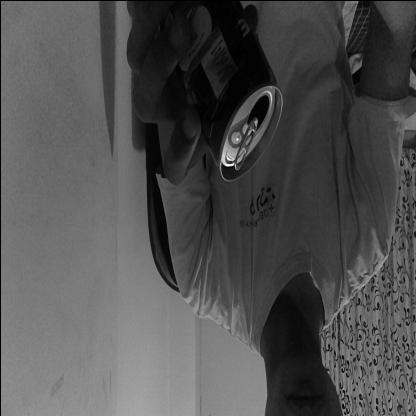alumunium_can: (156, 0, 282, 178)
